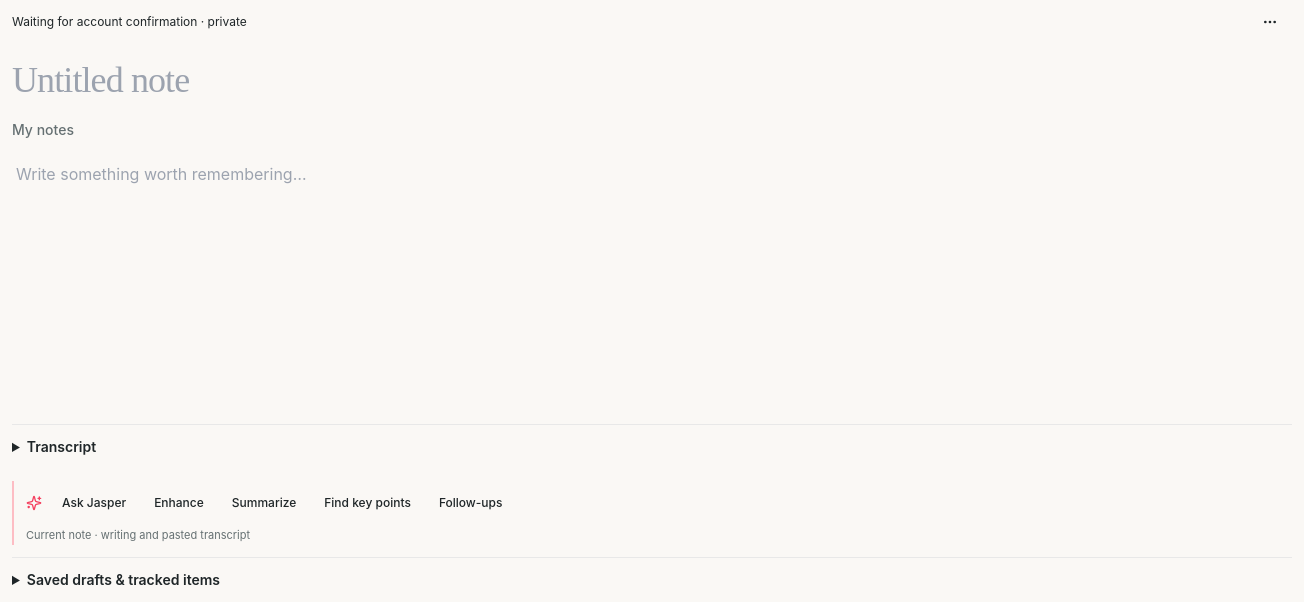
Test: notebook editor draft safety › keeps newer edits and advances the storage revision after an earlier save completes
Type "First edit" into the text box named "My original notes" at (652, 280), box [12, 152, 1292, 408]
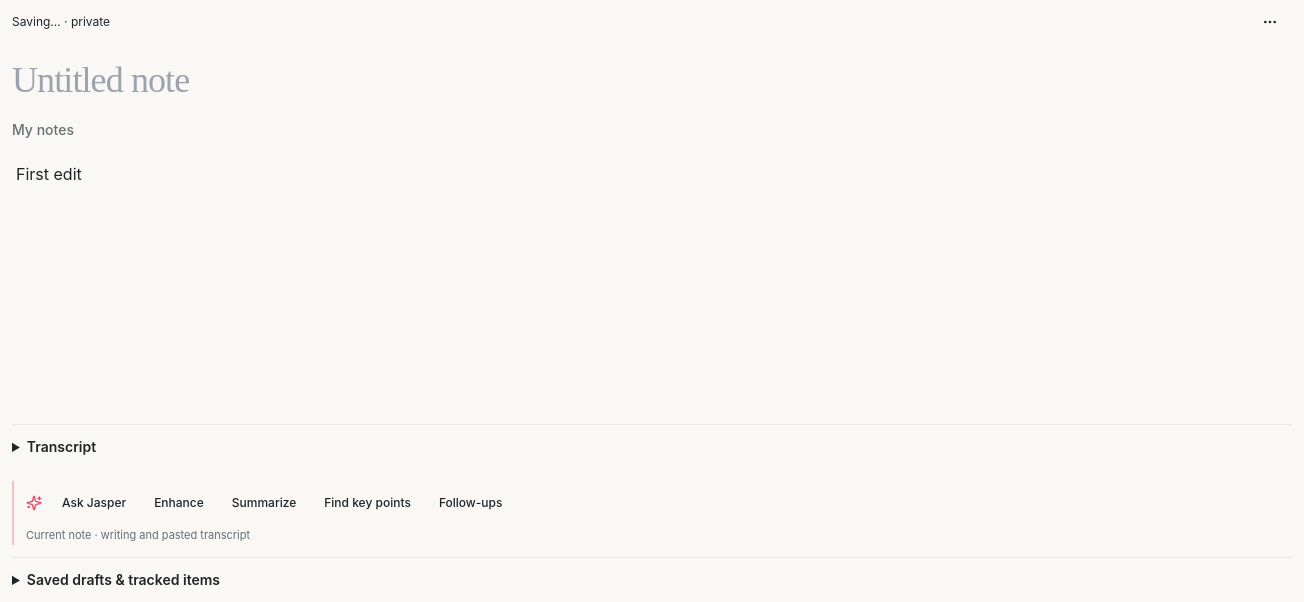
Replace the text in the text box named "My original notes" with "Second edit" at (652, 280), box [12, 152, 1292, 408]
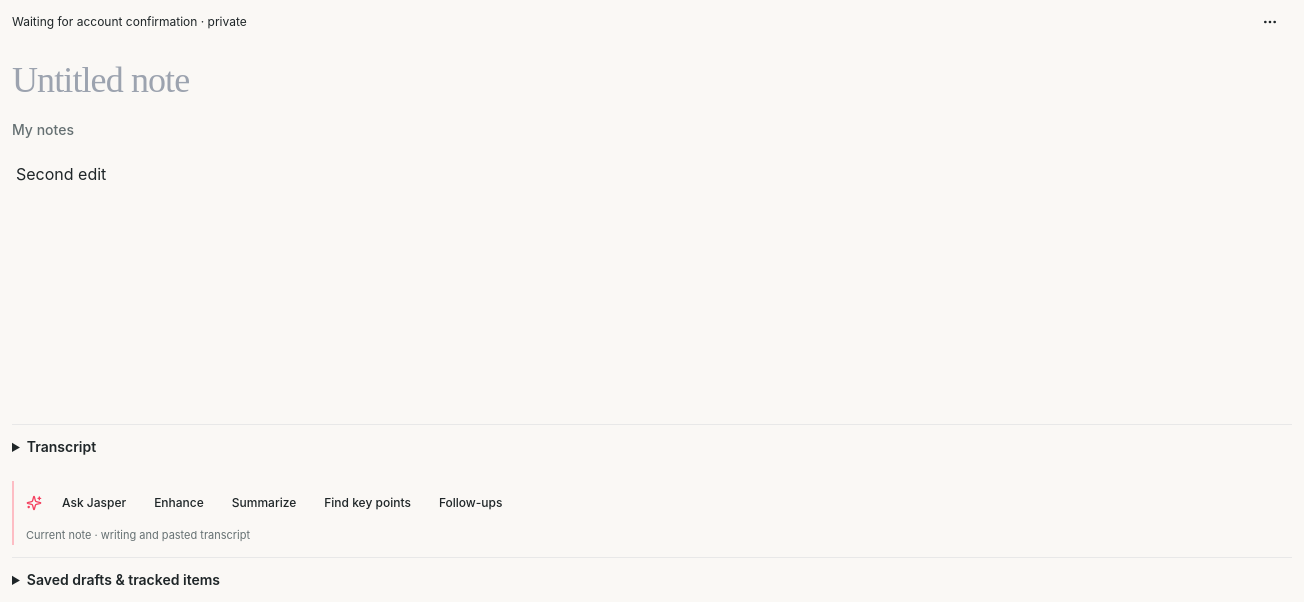
Expected: the text "Second edit" is shown, [16, 164, 106, 184]
